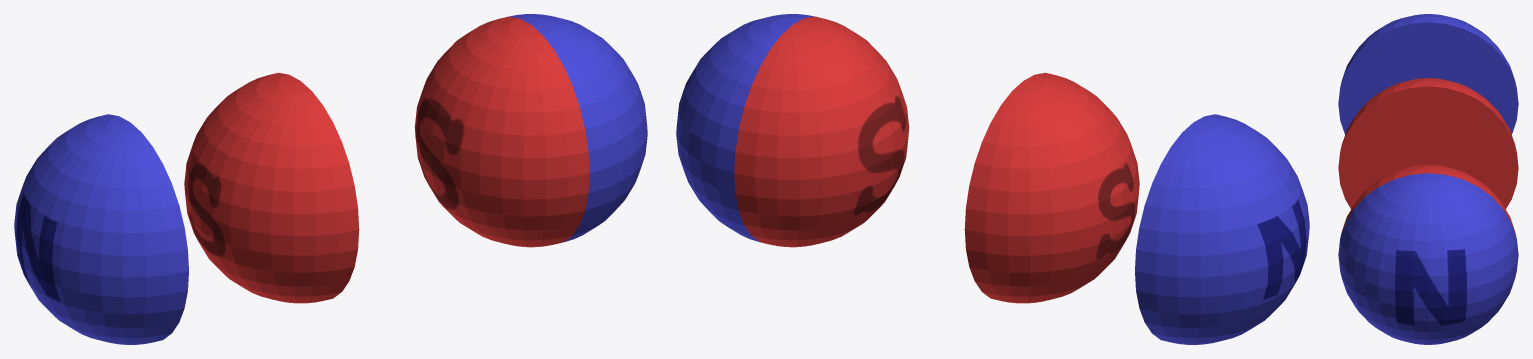
The model's file is Magnets.fbx.
The picture shows the model from 3 angles, left to right: view 1: azimuth 30°, elevation 25°; view 2: azimuth 150°, elevation 25°; view 3: azimuth 270°, elevation 25°; orthographic projection. The views are drawn at different scales.
Parts seen in each view (by area): view 1: Sphere, Sphere.001, Sphere.002; view 2: Sphere, Sphere.001, Sphere.002; view 3: Sphere, Sphere.002, Sphere.001.
Part boxes in pixels (<box>): Sphere: <box>414,14,647,247</box>; Sphere.001: <box>14,114,188,344</box>; Sphere.002: <box>184,72,359,303</box>; Sphere: <box>676,14,909,247</box>; Sphere.001: <box>1135,114,1309,344</box>; Sphere.002: <box>964,72,1139,303</box>; Sphere: <box>1338,165,1518,344</box>; Sphere.002: <box>1338,78,1518,208</box>; Sphere.001: <box>1338,14,1518,134</box>.
Size of the model in its own units: 596 by 200 by 200.
